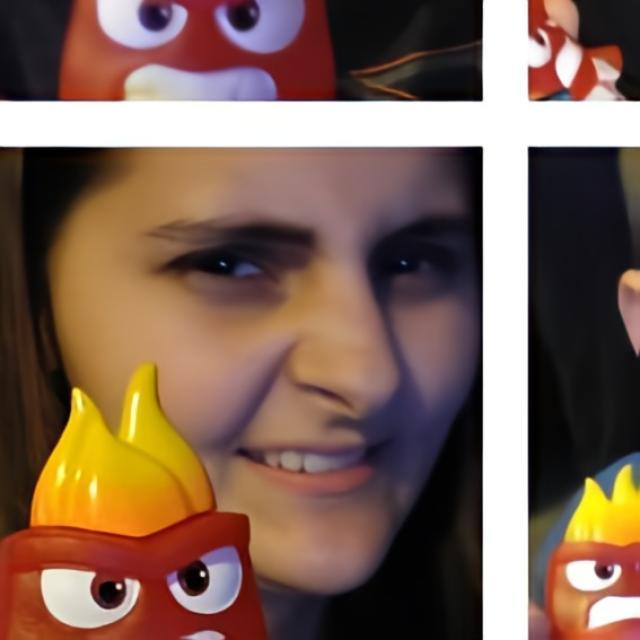happy: (63, 138, 486, 590)
